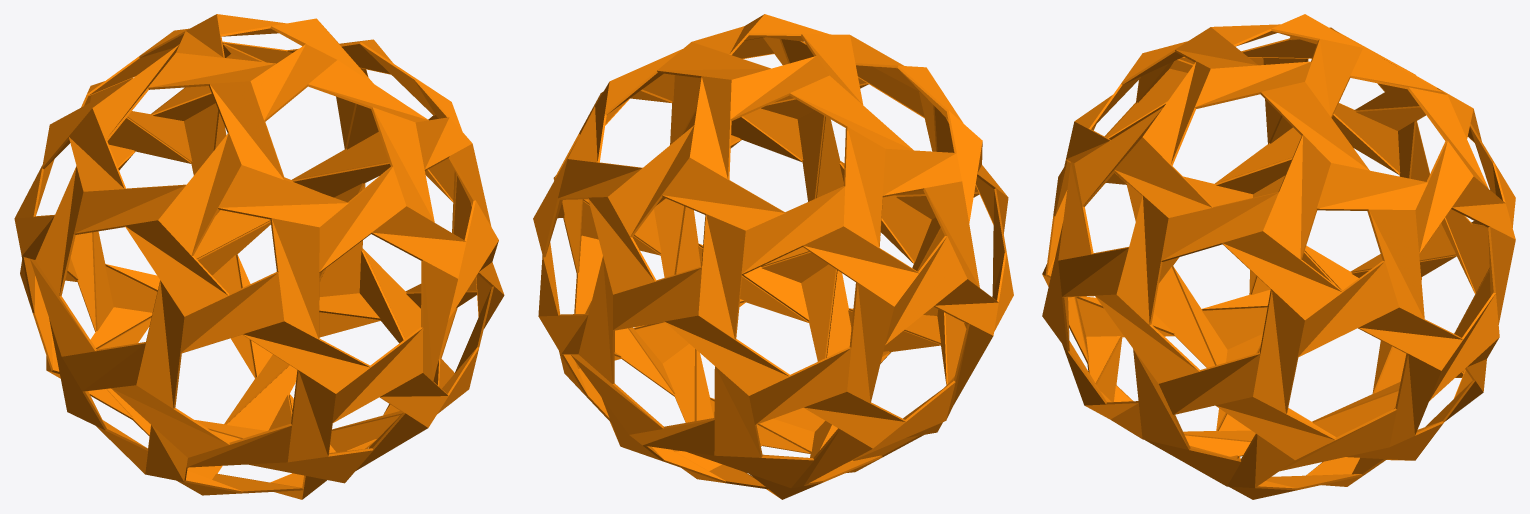
Rendered from TruncatedIcosahedron.glb.
The picture shows the model from 3 angles, left to right: view 1: azimuth 30°, elevation 25°; view 2: azimuth 150°, elevation 25°; view 3: azimuth 270°, elevation 25°; orthographic projection.
Parts seen in each view (by area): view 1: root; view 2: root; view 3: root.
Boxes of the visible parts, x1,y1,x2,y2 form: root: [14, 14, 504, 499]; root: [533, 14, 1013, 499]; root: [1042, 14, 1515, 499].
Bounding box in the file's own units: 8.74 × 8.38 × 8.6.
